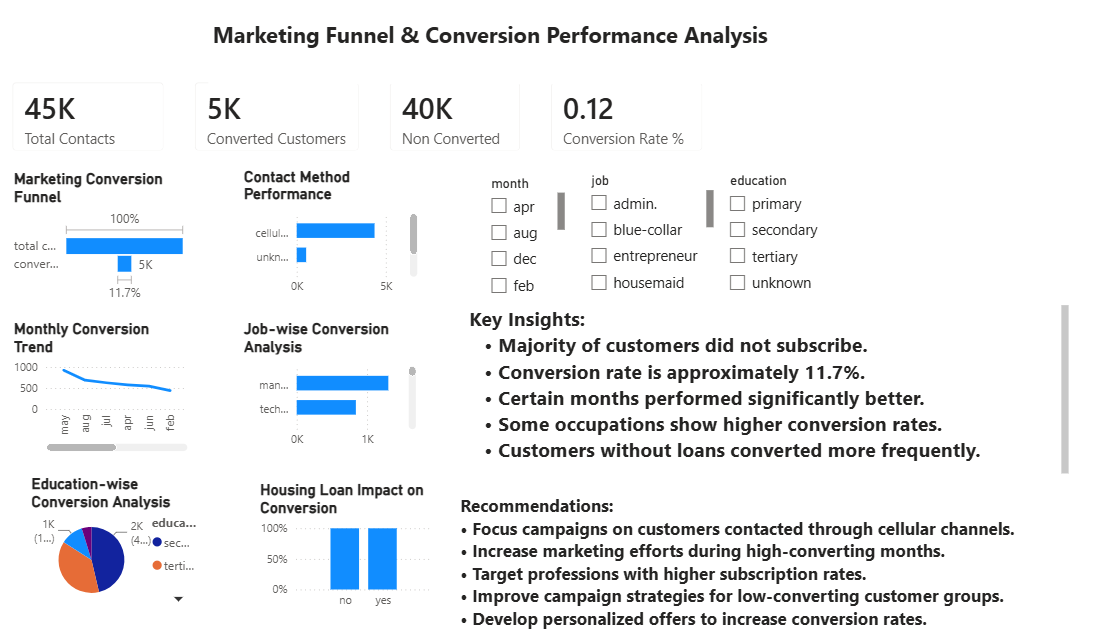

Layout of this report page (visuals, bound fields, positions):
{"tool":"powerbi","page":{"name":"Page 1","canvas":[1280,720],"ordinal":0},"visuals":[{"type":"cardVisual","fields":{"Data":["bank-full.Total Contacts"]},"box":[0,82.3,200.3,109.8],"z":0},{"type":"cardVisual","fields":{"Data":["bank-full.Converted Customers"]},"box":[200.3,82.3,214.1,109.8],"z":1000},{"type":"cardVisual","fields":{"Data":["bank-full.Non Converted"]},"box":[414.4,82.3,177,109.8],"z":2000},{"type":"cardVisual","fields":{"Data":["bank-full.Conversion Rate %"]},"box":[591.4,82.3,200.3,109.8],"z":3000},{"type":"funnel","title":"Marketing Conversion Funnel","fields":{"Y":["Sum(FunnelData.count)"],"Category":["FunnelData.stage"]},"box":[13.7,194.9,200.3,149.6],"z":4000},{"type":"clusteredBarChart","title":"Contact Method Performance","fields":{"Category":["bank-full.contact"],"Y":["bank-full.Converted Customers"]},"box":[266.2,192.1,200.3,149.6],"z":5000},{"type":"lineChart","title":"Monthly Conversion Trend","fields":{"Category":["bank-full.month"],"Y":["bank-full.Converted Customers"]},"box":[13.7,359.5,200.3,149.6],"z":6000},{"type":"clusteredBarChart","title":"Job-wise Conversion Analysis","fields":{"Category":["bank-full.job"],"Y":["bank-full.Converted Customers"]},"box":[266.2,359.5,199,149.6],"z":6001},{"type":"pieChart","title":"Education-wise Conversion Analysis","fields":{"Category":["bank-full.education"],"Y":["bank-full.Converted Customers"]},"box":[32.9,529.7,199,149.6],"z":6002},{"type":"hundredPercentStackedColumnChart","title":"Housing Loan Impact on Conversion","fields":{"Category":["bank-full.housing"],"Y":["bank-full.Converted Customers"]},"box":[284,536.5,199,149.6],"z":6003},{"type":"textbox","box":[513.2,338.9,668.3,197.6],"z":6004},{"type":"textbox","box":[231.9,26.1,683.4,75.5],"z":6005},{"type":"slicer","fields":{"Values":["bank-full.month"]},"box":[529.7,196.2,98.8,149.6],"z":6006},{"type":"slicer","fields":{"Values":["bank-full.job"]},"box":[639.5,193.5,152.3,149.6],"z":6007},{"type":"slicer","fields":{"Values":["bank-full.education"]},"box":[791.8,193.5,161.9,149.6],"z":6008},{"type":"textbox","box":[503.6,546.1,668.3,174.3],"z":6009}]}

Visuals, with their boxes in screenshot pixels (x1, y1, x2, y2), scaled from the page's 1280x720 canvas onto the 1111x642 screenshot:
cardVisual - bank-full.Total Contacts: select_region(0, 73, 174, 171)
cardVisual - bank-full.Converted Customers: select_region(174, 73, 360, 171)
cardVisual - bank-full.Non Converted: select_region(360, 73, 513, 171)
cardVisual - bank-full.Conversion Rate %: select_region(513, 73, 687, 171)
"Marketing Conversion Funnel" funnel: select_region(12, 174, 186, 307)
"Contact Method Performance" clusteredBarChart: select_region(231, 171, 405, 305)
"Monthly Conversion Trend" lineChart: select_region(12, 321, 186, 454)
"Job-wise Conversion Analysis" clusteredBarChart: select_region(231, 321, 404, 454)
"Education-wise Conversion Analysis" pieChart: select_region(29, 472, 201, 606)
"Housing Loan Impact on Conversion" hundredPercentStackedColumnChart: select_region(247, 478, 419, 612)
textbox: select_region(445, 302, 1026, 478)
textbox: select_region(201, 23, 794, 91)
slicer - bank-full.month: select_region(460, 175, 546, 308)
slicer - bank-full.job: select_region(555, 173, 687, 306)
slicer - bank-full.education: select_region(687, 173, 828, 306)
textbox: select_region(437, 487, 1017, 641)
